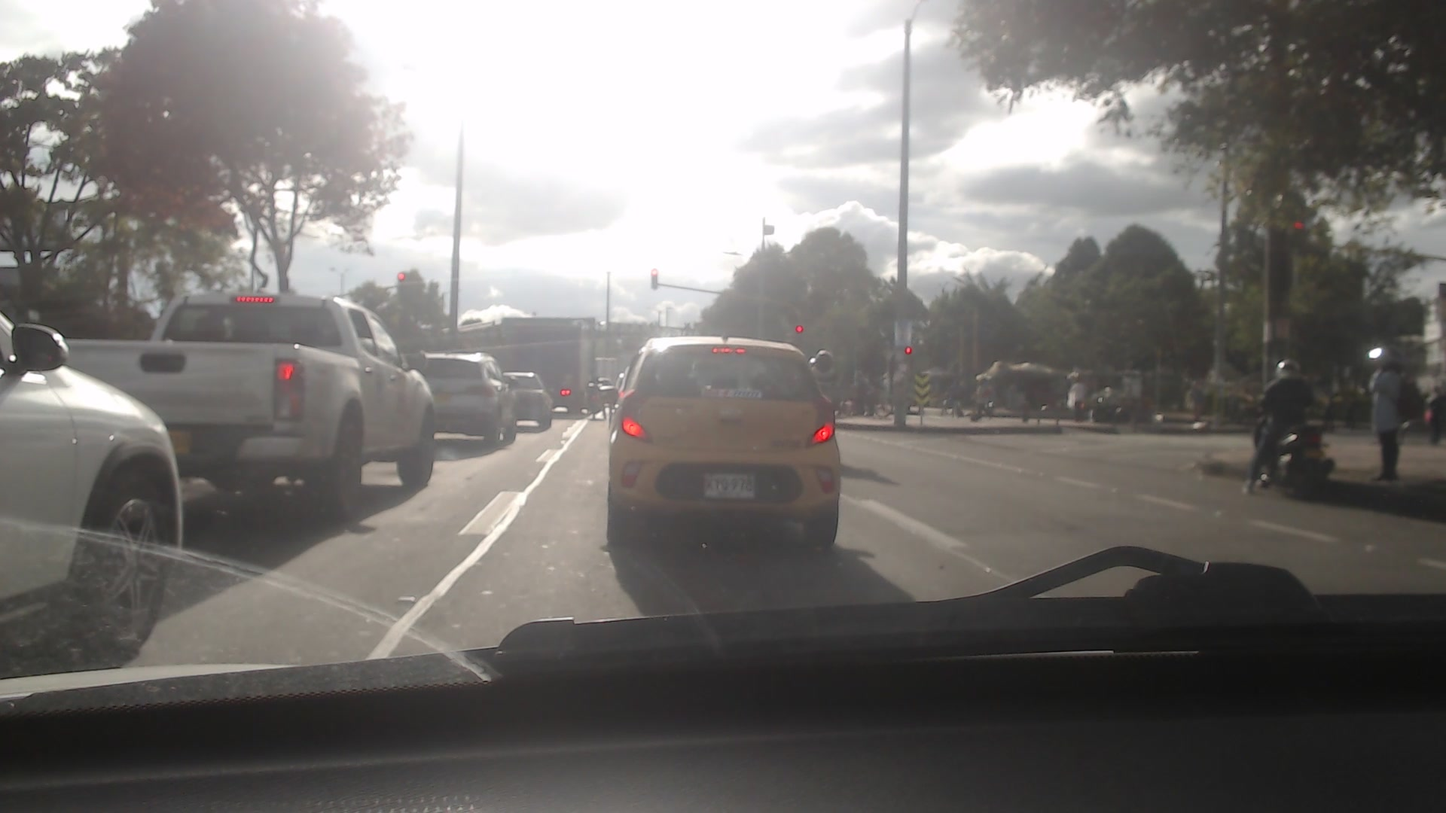car: (46, 285, 435, 491), (609, 341, 846, 558), (407, 352, 514, 440), (504, 370, 553, 437)
motorcycle: (1252, 405, 1330, 492)
person: (1261, 347, 1316, 479), (1368, 344, 1410, 490)
